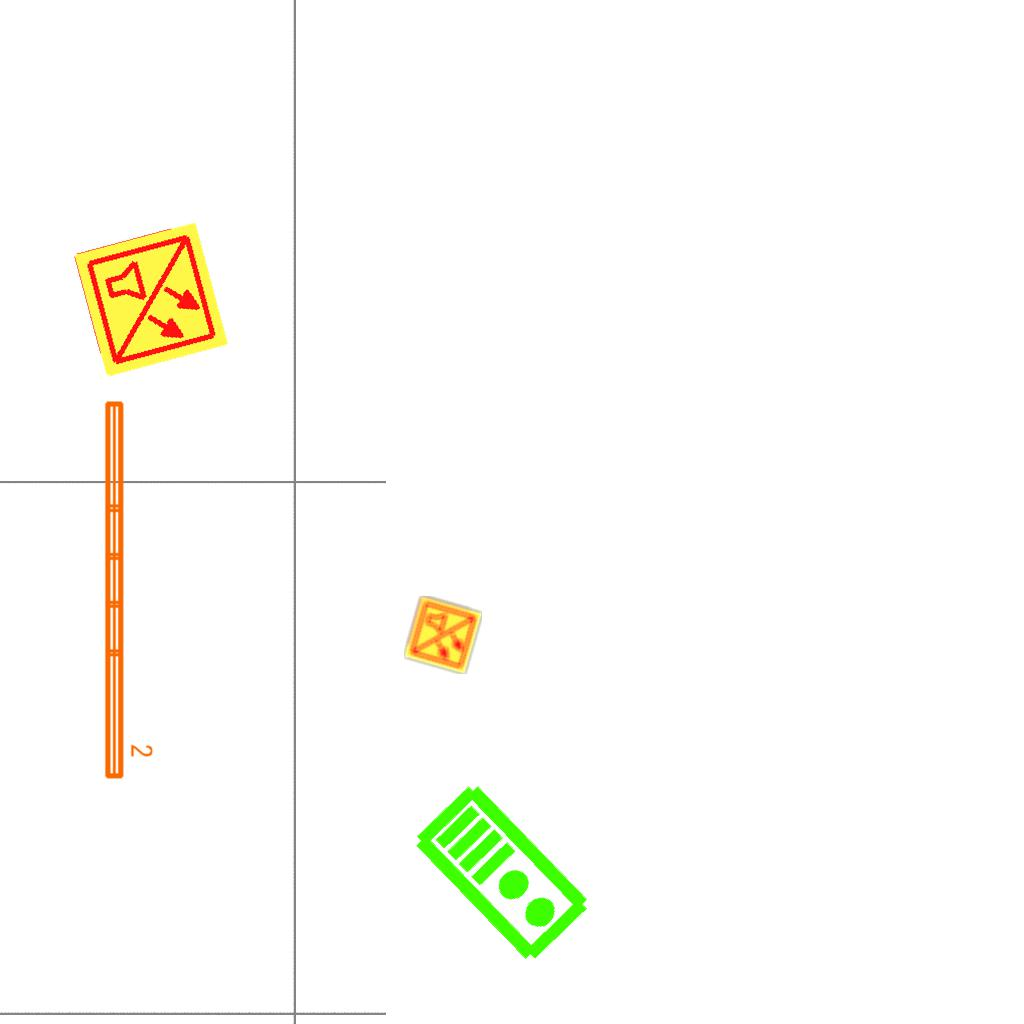Ambulanz_Pendelleuchte_LED: (99, 396, 155, 783)
Gegensprechanlage_mit_Video: (408, 775, 599, 969)
OKW_Multisensormelder_(Kombination_optischer_Rauch-Kahlenmonoxid_Waerme-Melder): (70, 219, 232, 381), (402, 594, 484, 676)
